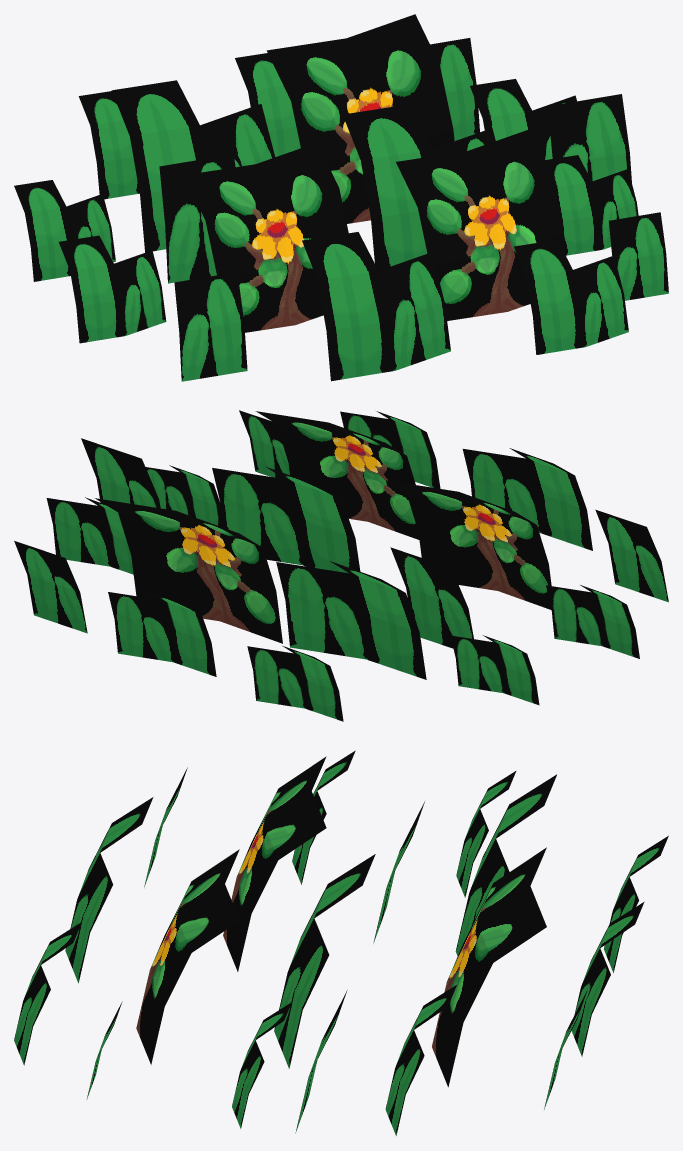
File: grass_2.gltf
3 renders of one model, top to bottom at view 1: azimuth 30°, elevation 25°; view 2: azimuth 150°, elevation 25°; view 3: azimuth 270°, elevation 25°, orthographic. The views are drawn at different scales.
Parts seen in each view (by area): view 1: Grass2Mesh; view 2: Grass2Mesh; view 3: Grass2Mesh.
Part boxes in pixels (x1,y1,x2,y2): Grass2Mesh: [14, 14, 668, 381]; Grass2Mesh: [14, 410, 668, 721]; Grass2Mesh: [14, 750, 668, 1135].
Size of the model in its own units: 1.7 by 0.425 by 1.57.
1 material, 1 textured.
